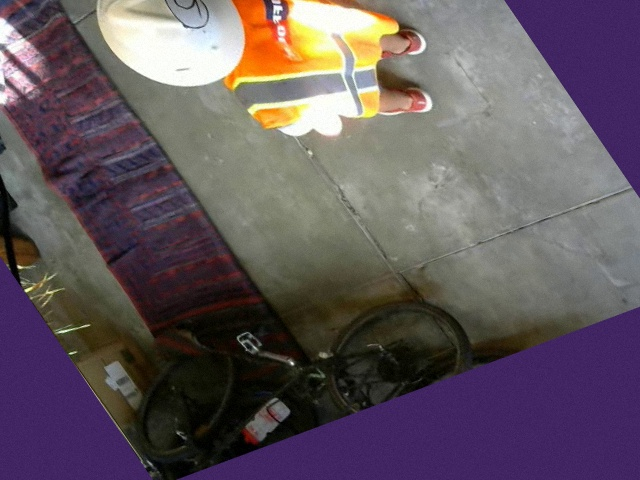two: (153, 0, 216, 33)
